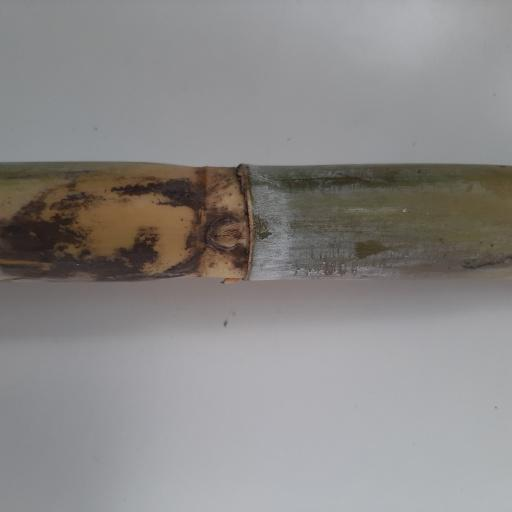Bud: (204, 216, 245, 252)
